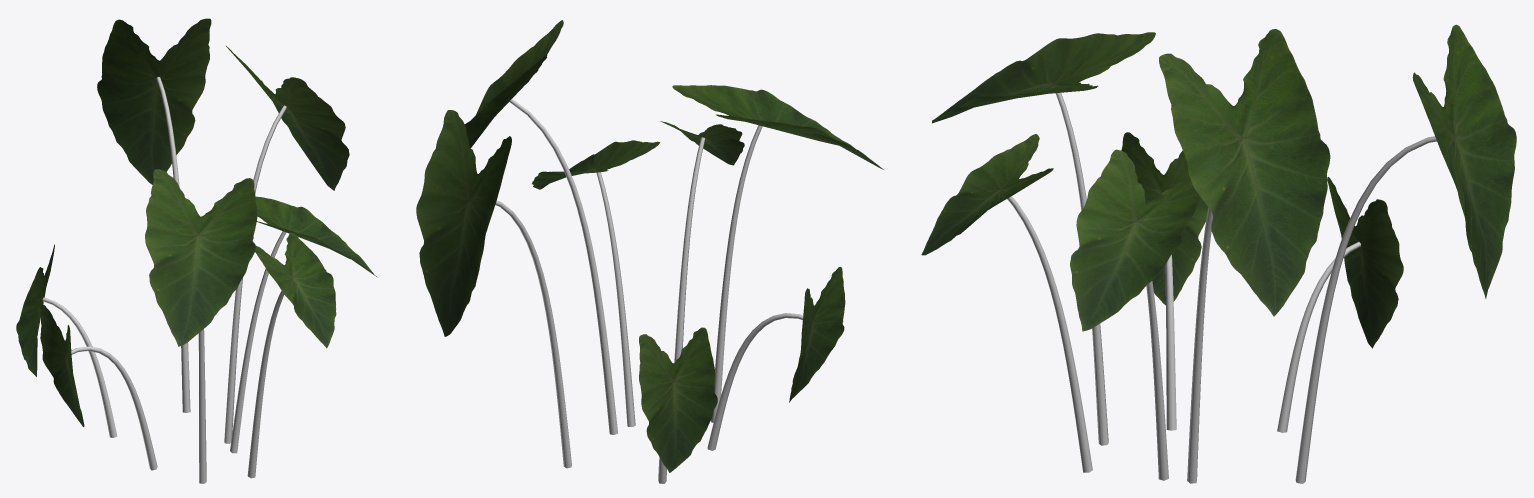
Rendered from colocasia 2.obj.
The picture shows the model from 3 angles, left to right: view 1: azimuth 30°, elevation 25°; view 2: azimuth 150°, elevation 25°; view 3: azimuth 270°, elevation 25°; orthographic projection. The views are drawn at different scales.
Parts seen in each view (by area): view 1: colocasia 2SG; view 2: colocasia 2SG; view 3: colocasia 2SG.
Boxes of the visible parts, <box> form: colocasia 2SG: <box>16,18,377,483</box>; colocasia 2SG: <box>416,20,883,483</box>; colocasia 2SG: <box>921,24,1516,483</box>.
Size of the model in its own units: 2.7 by 2.95 by 3.35.
Materials: 2 (1 with a texture image).
